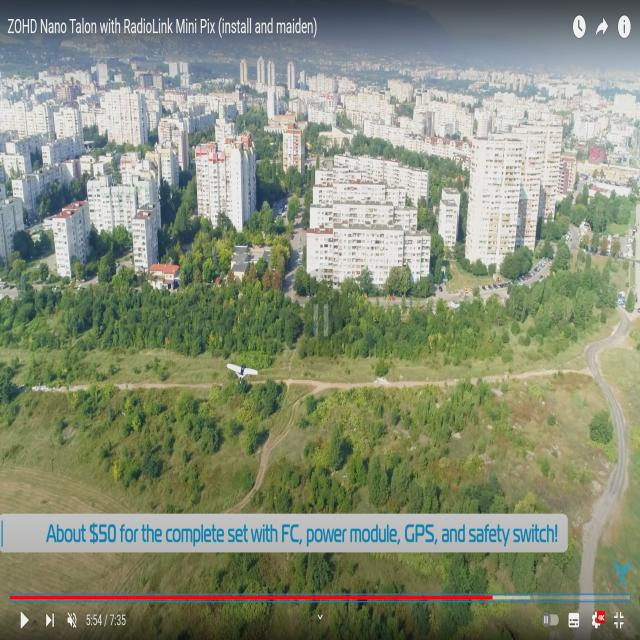iha: (228, 361, 256, 382)
